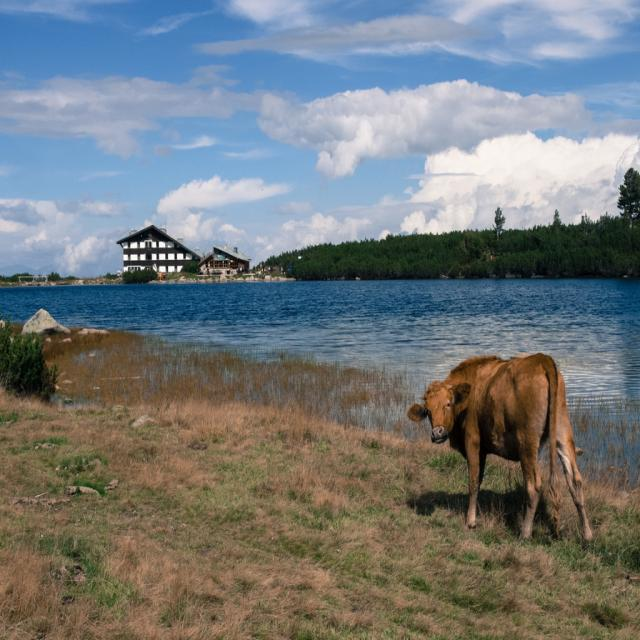Cattle: (404, 350, 594, 546)
